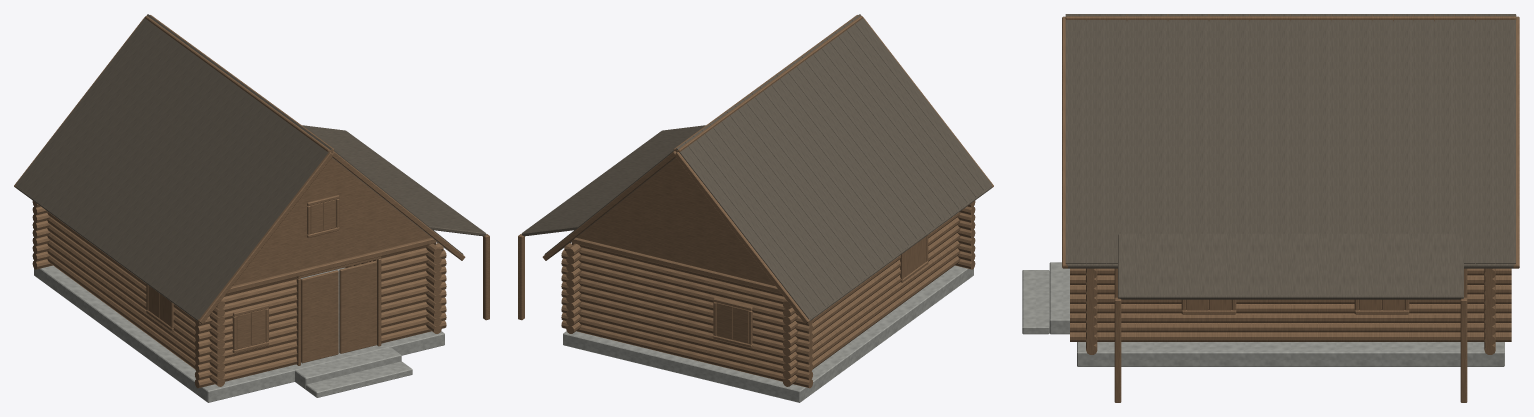
The model's file is w01_closed.glb.
The picture shows the model from 3 angles, left to right: view 1: azimuth 30°, elevation 25°; view 2: azimuth 150°, elevation 25°; view 3: azimuth 270°, elevation 25°; orthographic projection. The views are drawn at different scales.
Parts seen in each view (by area): view 1: W01_roof_left, W01_wall_front, W01_gable_front, W01_wall_left, W01_foundation, W01_canopy, W01_step0, W01_entry_leaf0, W01_entry_leaf1, W01_verge_-1_-1, W01_wall_right, W01_ridge (+5 smaller); view 2: W01_roof_left, W01_wall_rear, W01_gable_rear, W01_foundation, W01_wall_left, W01_canopy, W01_verge_1_-1, W01_wall_right, W01_ridge, W01_wall_front, W01_canopy_post_3.5_-3.8, W01_rear_work_shutterl (+2 smaller); view 3: W01_roof_right, W01_canopy, W01_wall_right, W01_foundation, W01_step0, W01_canopy_post_3.5_-3.8, W01_ridge, W01_wall_rear, W01_wall_front, W01_verge_1_-1, W01_verge_-1_-1, W01_roof_left.
Part boxes in pixels (box(x1,y1,x2,y2)): W01_roof_left: box(15, 14, 331, 320); W01_wall_front: box(194, 195, 446, 388); W01_gable_front: box(232, 158, 431, 286); W01_wall_left: box(47, 212, 224, 386); W01_foundation: box(34, 265, 444, 402); W01_canopy: box(302, 125, 486, 236); W01_step0: box(295, 347, 412, 397); W01_entry_leaf0: box(301, 270, 338, 363); W01_entry_leaf1: box(339, 260, 376, 353); W01_verge_-1_-1: box(197, 151, 465, 324); W01_wall_right: box(345, 243, 441, 333); W01_ridge: box(145, 15, 334, 152); W01_roof_left: box(676, 14, 992, 320); W01_wall_rear: box(561, 237, 813, 388); W01_gable_rear: box(576, 158, 775, 286); W01_foundation: box(563, 265, 973, 402); W01_wall_left: box(783, 212, 960, 386); W01_canopy: box(521, 125, 705, 236); W01_verge_1_-1: box(542, 151, 810, 324); W01_wall_right: box(566, 243, 581, 333); W01_ridge: box(673, 15, 862, 152); W01_wall_front: box(955, 201, 975, 269); W01_canopy_post_3.5_-3.8: box(518, 234, 524, 320); W01_rear_work_shutterl: box(732, 307, 748, 343); W01_roof_right: box(1065, 14, 1515, 268); W01_canopy: box(1118, 232, 1463, 299); W01_wall_right: box(1070, 268, 1511, 341); W01_foundation: box(1077, 342, 1504, 366); W01_step0: box(1022, 262, 1069, 334); W01_canopy_post_3.5_-3.8: box(1114, 268, 1467, 402); W01_ridge: box(1065, 14, 1516, 21); W01_wall_rear: box(1484, 268, 1495, 354); W01_wall_front: box(1086, 268, 1097, 354); W01_verge_1_-1: box(1513, 16, 1519, 268); W01_verge_-1_-1: box(1062, 16, 1067, 268); W01_roof_left: box(1066, 14, 1515, 14).
Bounding box in the file's own units: 9.71 × 6.83 × 10.92.
3 materials, 3 textured.
